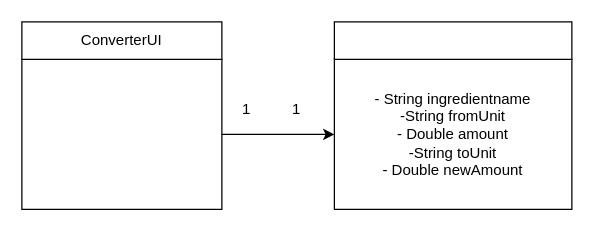
This 594x231 diagram has some shape labels left out. The box of each missing label's shape, as (x1, y1, x2, y2) in pixels:
- Converter converter: (21, 58, 222, 209)
Converter: (333, 21, 572, 59)
